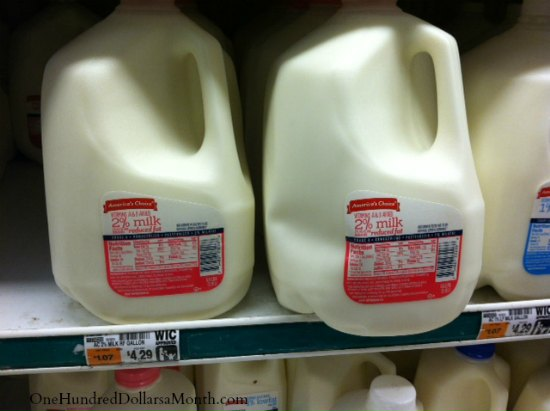milk: (271, 15, 484, 336), (46, 11, 257, 319)
